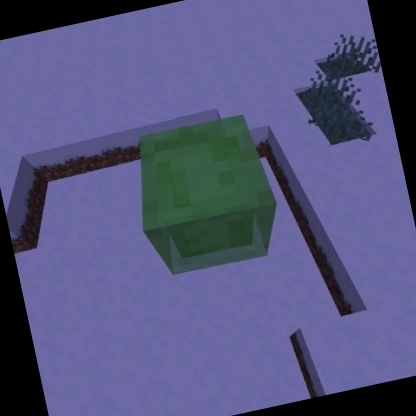slime: (119, 105, 293, 287)
